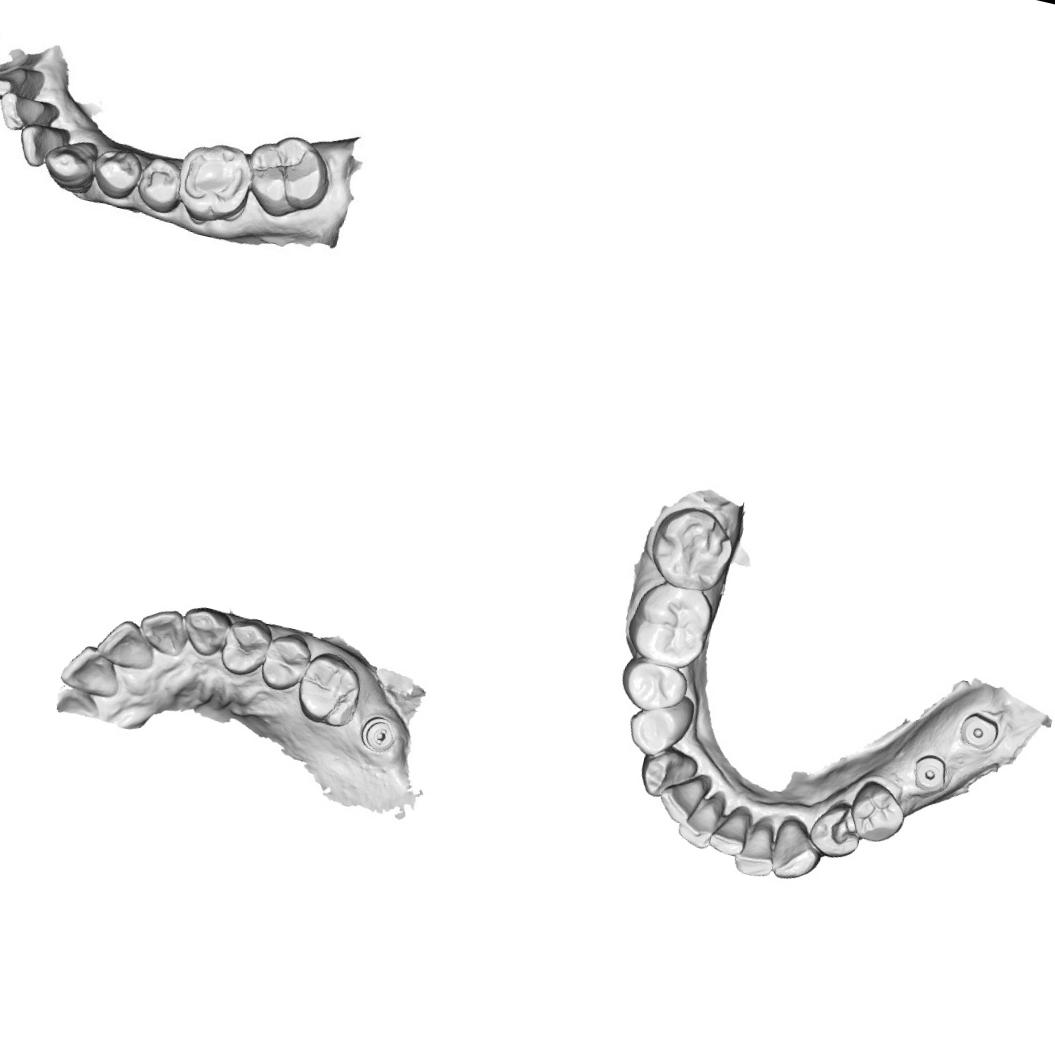canine: (766, 814, 830, 887), (634, 742, 701, 806), (176, 602, 234, 660), (37, 136, 97, 191)
implant: (954, 706, 1002, 754), (908, 752, 951, 796)
implant_minus: (356, 711, 401, 757)
incisor: (57, 640, 127, 701), (94, 614, 162, 674), (654, 770, 712, 831), (134, 602, 194, 660), (674, 791, 730, 853), (706, 800, 753, 862), (0, 87, 55, 139), (18, 122, 72, 172), (732, 824, 780, 880), (0, 56, 30, 103)
molar: (236, 126, 340, 228), (641, 495, 743, 598), (622, 575, 718, 674), (167, 129, 258, 228), (291, 646, 368, 732)
premolar: (622, 684, 700, 764), (610, 652, 693, 720), (844, 775, 914, 850), (806, 796, 868, 864), (89, 139, 150, 208), (256, 628, 316, 696), (218, 612, 276, 681), (133, 157, 186, 214)
